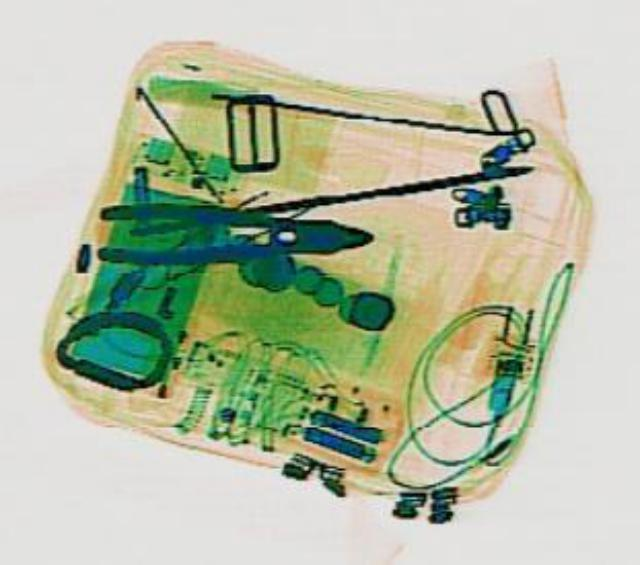Pliers: (90, 199, 370, 269)
